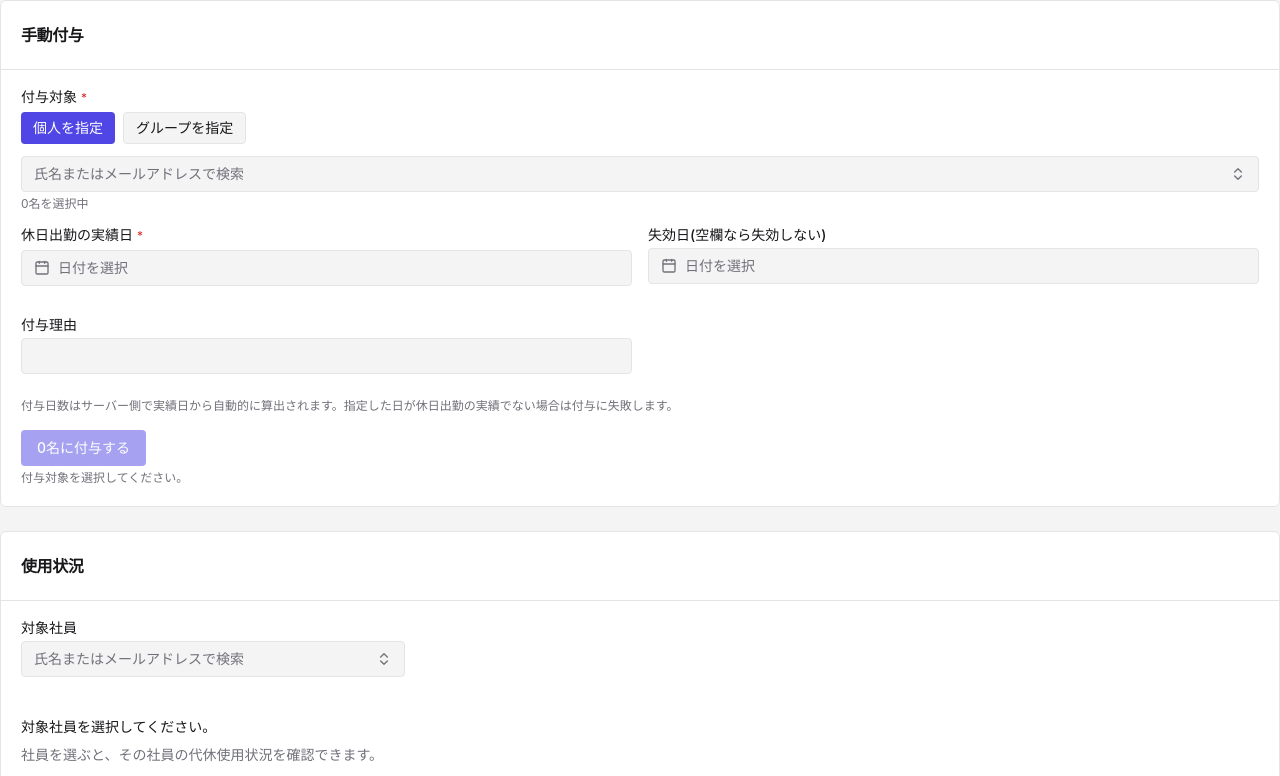
Test: CompensatoryLeaveAdminPage › grant list buttons of the target user › disables revoking a draft grant with the reason
Click the dropdown named "付与対象" at (139, 174), box [21,156,1259,192]
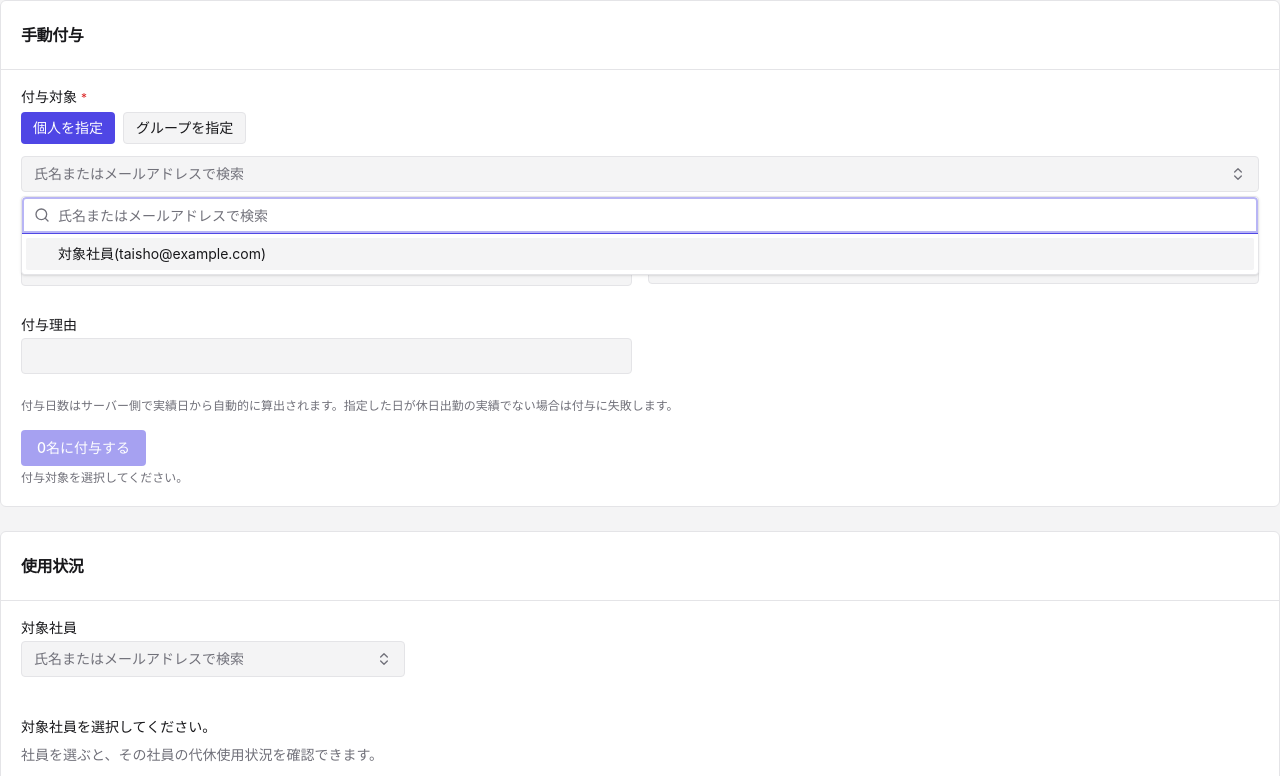
Type "対象" into the 2nd dropdown with placeholder "氏名またはメールアドレスで検索" at (652, 215), box [58,197,1246,233]
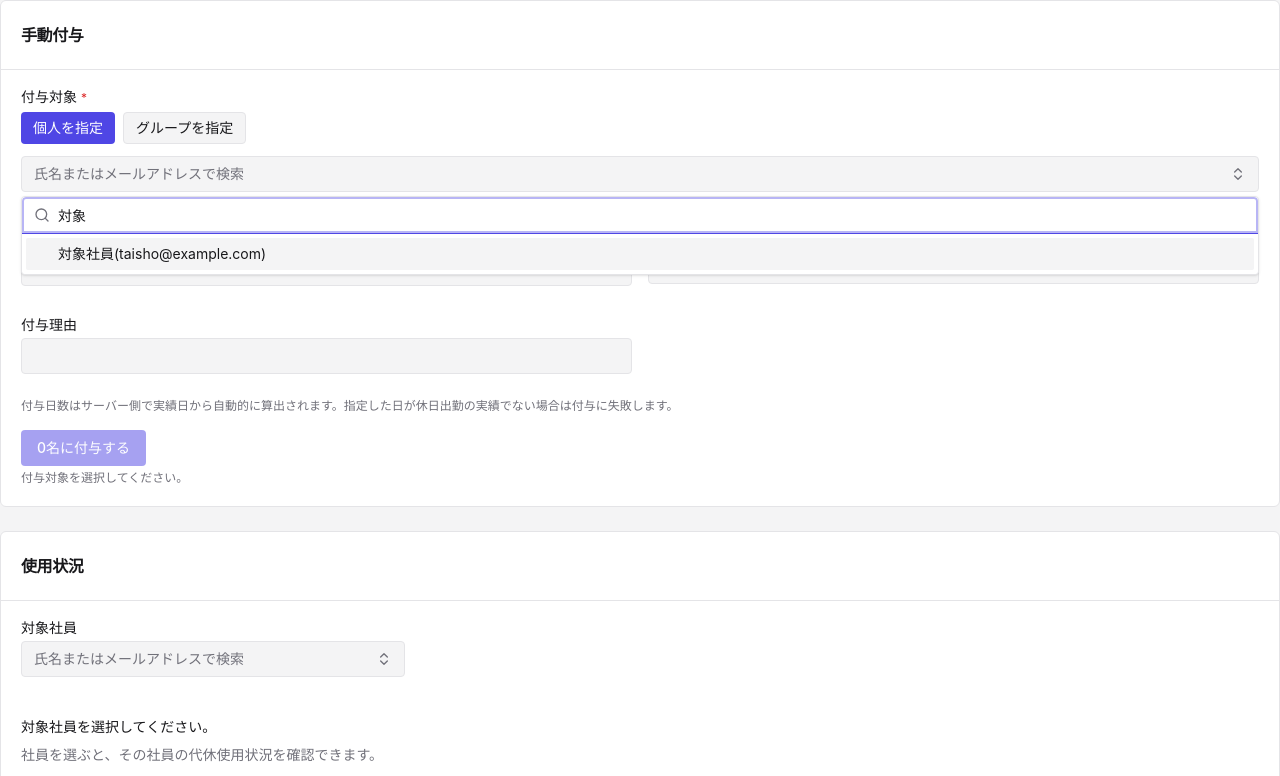
Click the option "対象社員(taisho@example.com)" at (86, 254), box [26,238,1254,270]
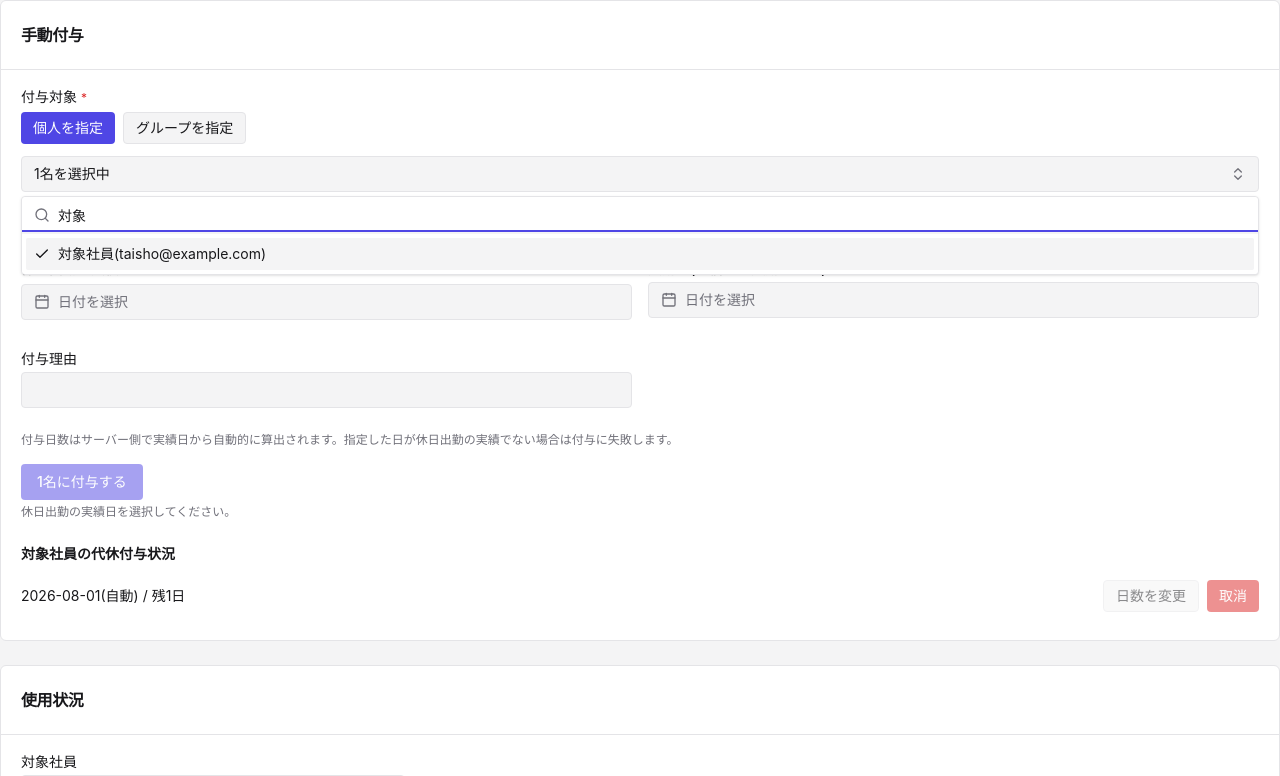
expect the button "取消" is disabled: met, box [1207,580,1259,612]
